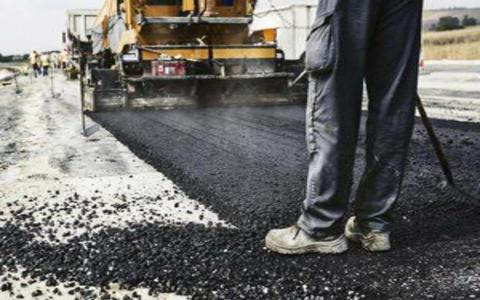Proper road: (151, 110, 290, 212)
